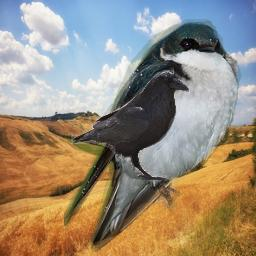Crow: (71, 70, 190, 180)
Swallow: (64, 14, 244, 252)
